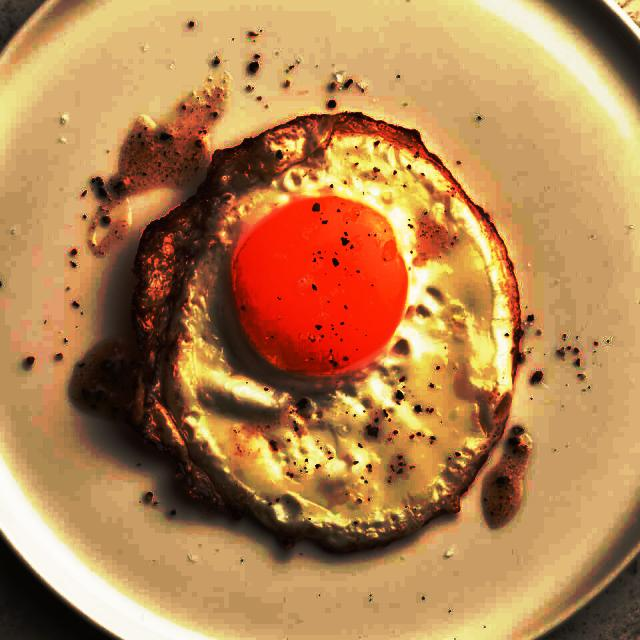fried_eggs: (84, 112, 522, 552)
